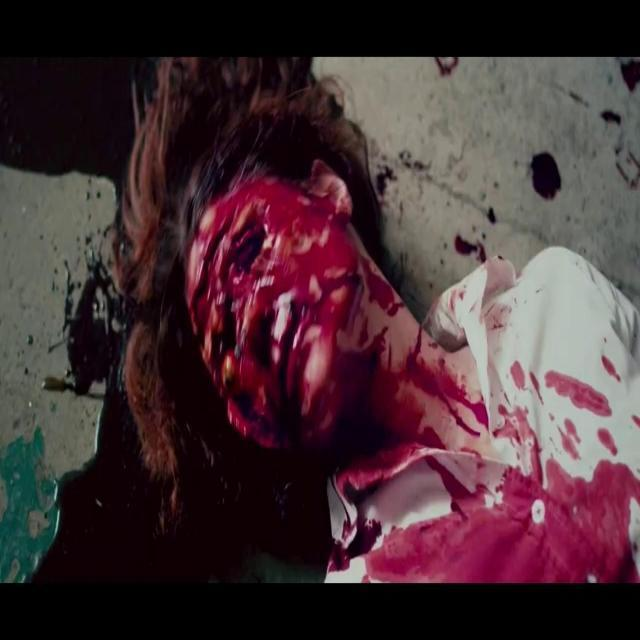knife: (188, 201, 307, 437), (496, 457, 638, 584), (363, 503, 497, 585), (542, 369, 612, 417), (261, 180, 305, 238), (293, 237, 357, 272), (423, 453, 470, 498), (303, 295, 351, 334), (296, 195, 337, 237), (362, 262, 395, 310), (346, 518, 383, 558), (435, 357, 465, 404), (452, 234, 487, 263), (405, 364, 434, 399), (313, 271, 349, 298), (404, 326, 424, 370), (366, 327, 393, 359), (464, 399, 490, 430), (293, 271, 317, 304), (618, 57, 640, 92), (328, 545, 352, 574), (417, 426, 447, 449), (557, 435, 580, 461), (455, 415, 481, 438), (601, 355, 622, 382), (355, 317, 373, 348), (433, 56, 459, 77), (508, 361, 526, 389), (597, 430, 616, 454), (563, 419, 581, 443), (438, 395, 457, 417), (386, 303, 409, 320), (449, 499, 461, 514), (631, 415, 640, 428)
